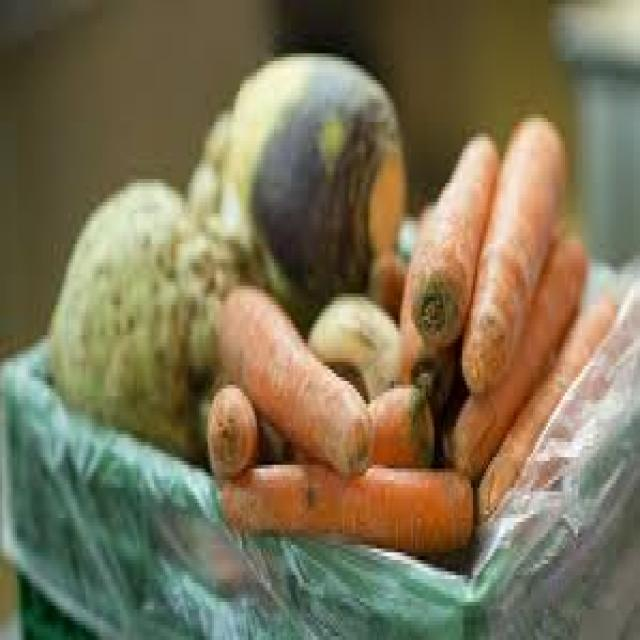organic waste: (45, 172, 218, 454), (224, 49, 404, 304), (443, 229, 584, 480), (454, 114, 565, 389), (216, 282, 368, 472), (214, 453, 473, 564), (477, 297, 606, 518), (408, 130, 496, 346), (287, 374, 432, 476), (396, 187, 452, 415), (304, 298, 398, 392), (214, 179, 287, 297), (204, 374, 252, 476), (197, 106, 233, 168), (180, 156, 220, 210), (368, 248, 402, 304)
